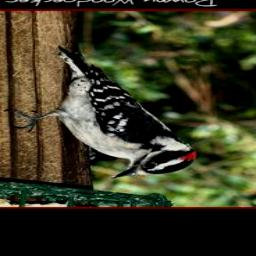Woodpecker: (0, 48, 199, 179)
